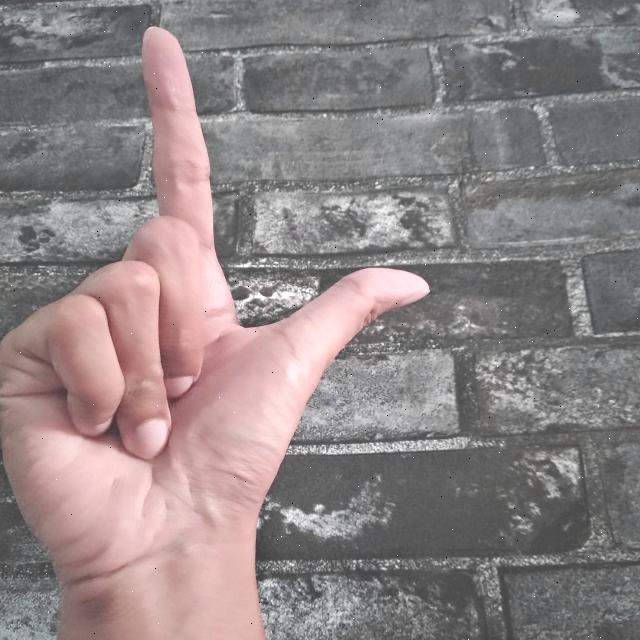L: (0, 16, 438, 640)
